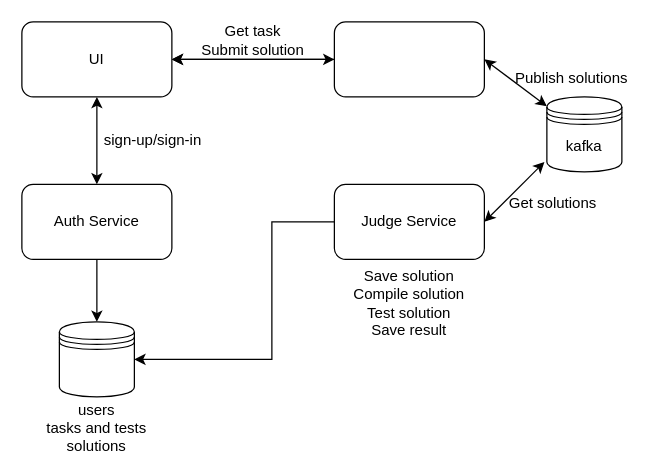
The diagram is 663 pixels wide and 476 high, and some of its shapes have lost their labels. Here are the shapes that lost their labels. From the top down, the box of each, then its label:
(333, 21, 484, 97): Api Service
(58, 321, 134, 397): postgres
